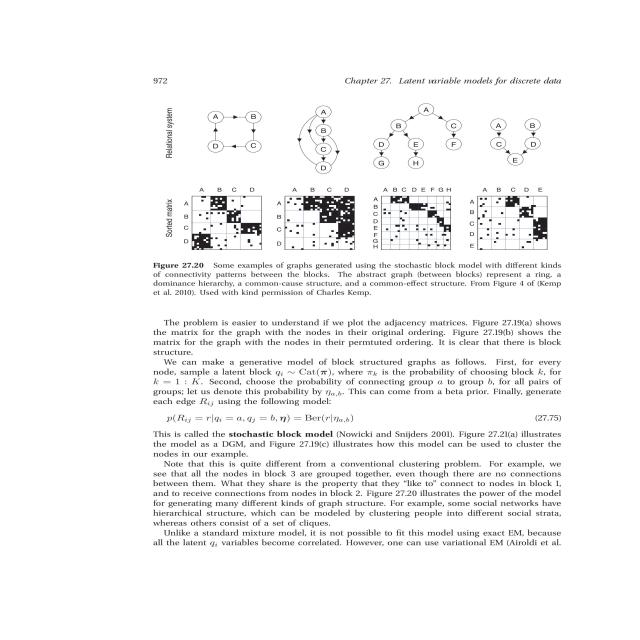diagram: (115, 96, 622, 299)
